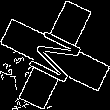M_SE: (22, 23, 88, 87)
